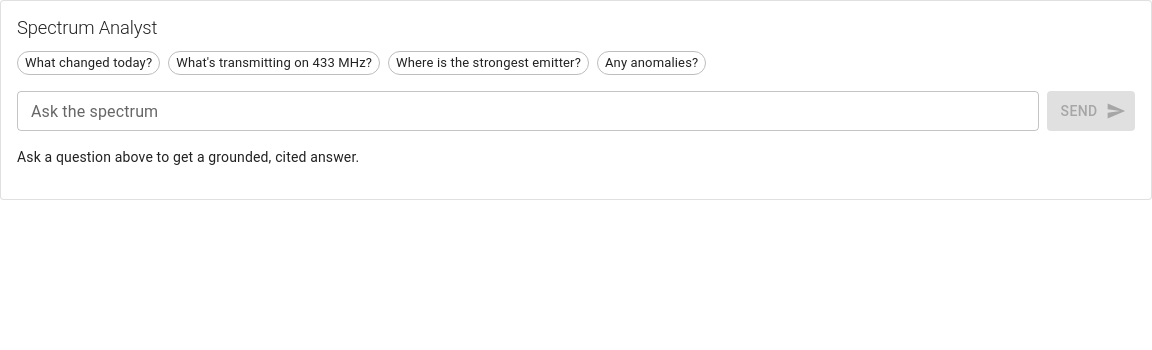
it: Analyst › submits a question and renders the answer, mode, queryType and citations
In the field with placeholder "Ask about signals, devices, emitters, or alerts…": (528, 111) [17,91,1039,131], type "What changed today?"
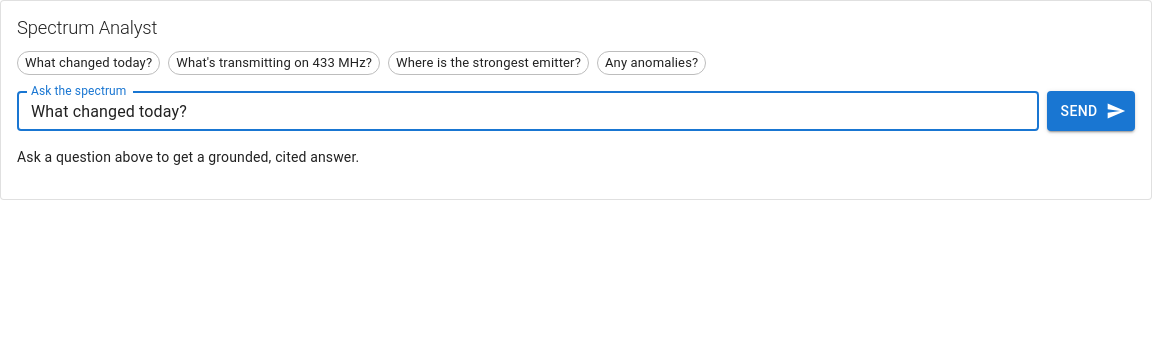
Now the button "Send" is enabled
Click the button "Send": (1091, 111) [1047,91,1135,131]
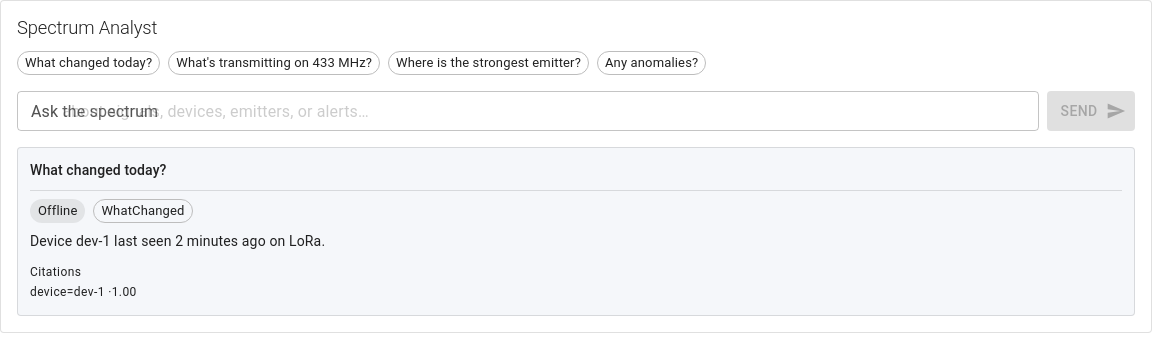
Now the text "Device dev-1 last seen 2 minutes ago on LoRa." is shown, box [30,233,325,249]
Now the text "Offline" is shown, box [38,203,77,218]
Now the text "WhatChanged" is shown, box [94,201,192,221]
